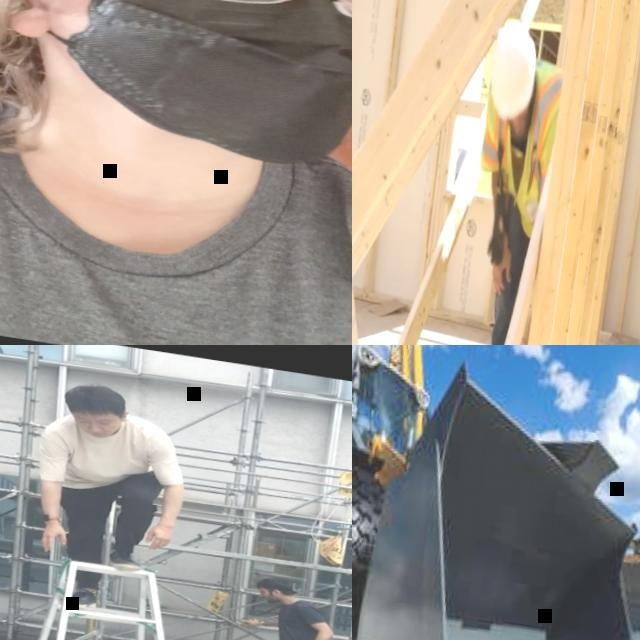Hardhat: (483, 15, 543, 121)
Mask: (6, 0, 352, 177)
NO-Hardhat: (61, 377, 129, 419), (254, 573, 295, 594)
NO-Mask: (76, 421, 122, 440), (260, 590, 282, 603)
NO-Safety Vest: (0, 70, 352, 345), (52, 403, 164, 500), (272, 598, 329, 640)
Person: (0, 0, 352, 345), (16, 375, 201, 622), (438, 11, 572, 345), (223, 571, 352, 640)
Safety Vest: (468, 51, 565, 239)
machinery: (352, 345, 640, 640)
